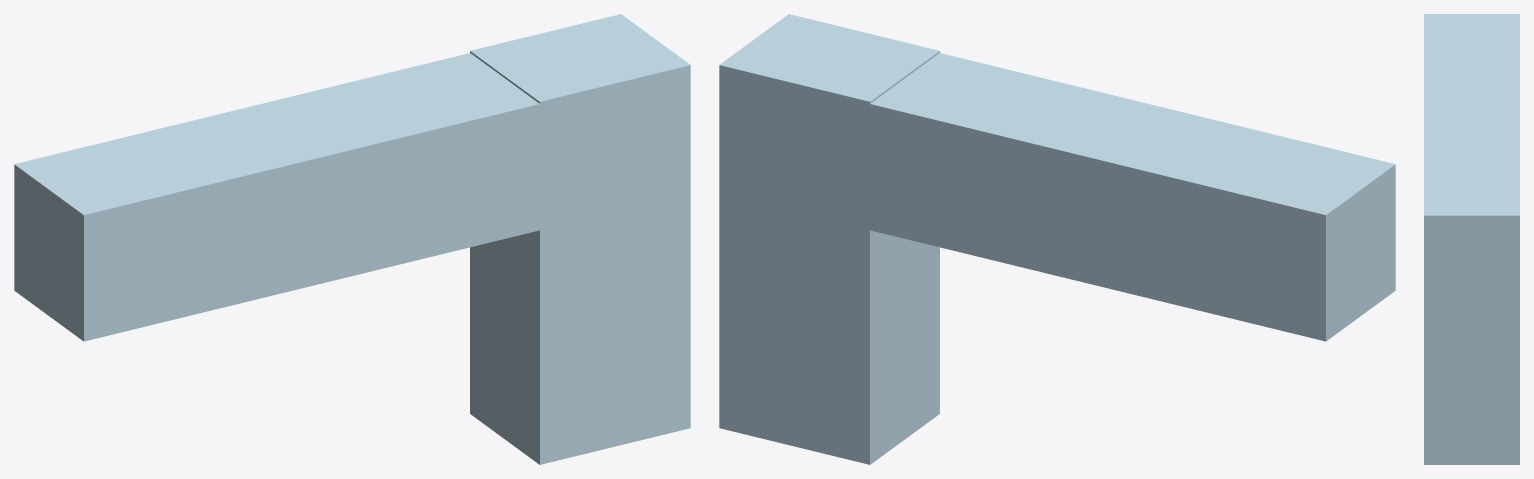
3 views of the same model, side by side, from view 1: azimuth 30°, elevation 25°; view 2: azimuth 150°, elevation 25°; view 3: azimuth 270°, elevation 25° (orthographic). The views are drawn at different scales.
Visible parts, largest first — view 1: ID2; view 2: ID2; view 3: ID2.
Part boxes in pixels (x1=…): ID2: x1=14, y1=14, x2=690, y2=464; ID2: x1=719, y1=14, x2=1395, y2=464; ID2: x1=1424, y1=14, x2=1519, y2=464.
Size of the model in its own units: 0.201 by 0.04 by 0.1149.
